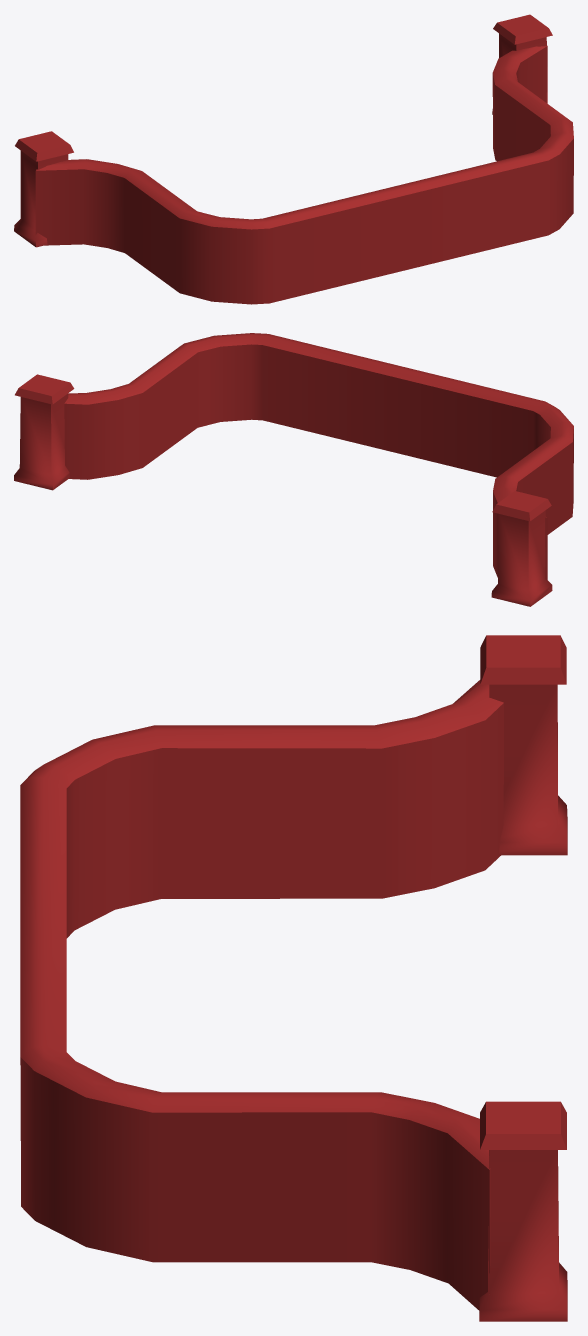
The model's file is Bannister_Col.FBX.
The picture shows the model from 3 angles, top to bottom: view 1: azimuth 30°, elevation 25°; view 2: azimuth 150°, elevation 25°; view 3: azimuth 270°, elevation 25°; orthographic projection. The views are drawn at different scales.
Parts seen in each view (by area): view 1: Bannister_Col; view 2: Bannister_Col; view 3: Bannister_Col.
Part boxes in pixels (left/top/right/bottom): Bannister_Col: left=14, top=14, right=573, bottom=304; Bannister_Col: left=14, top=333, right=573, bottom=606; Bannister_Col: left=20, top=635, right=567, bottom=1321.
Bounding box in the file's own units: 6.01 × 1.04 × 2.76.
